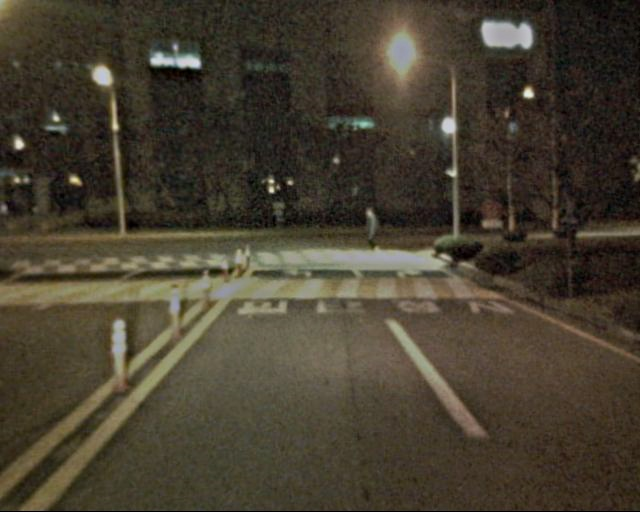person: (361, 207, 384, 262)
